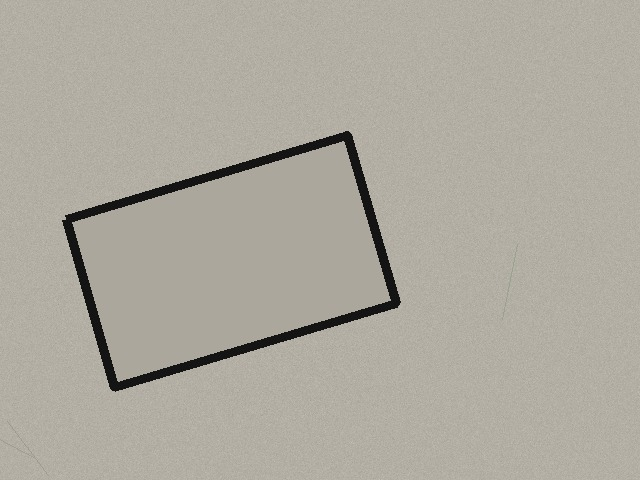parking_area: (66, 135, 396, 387)
